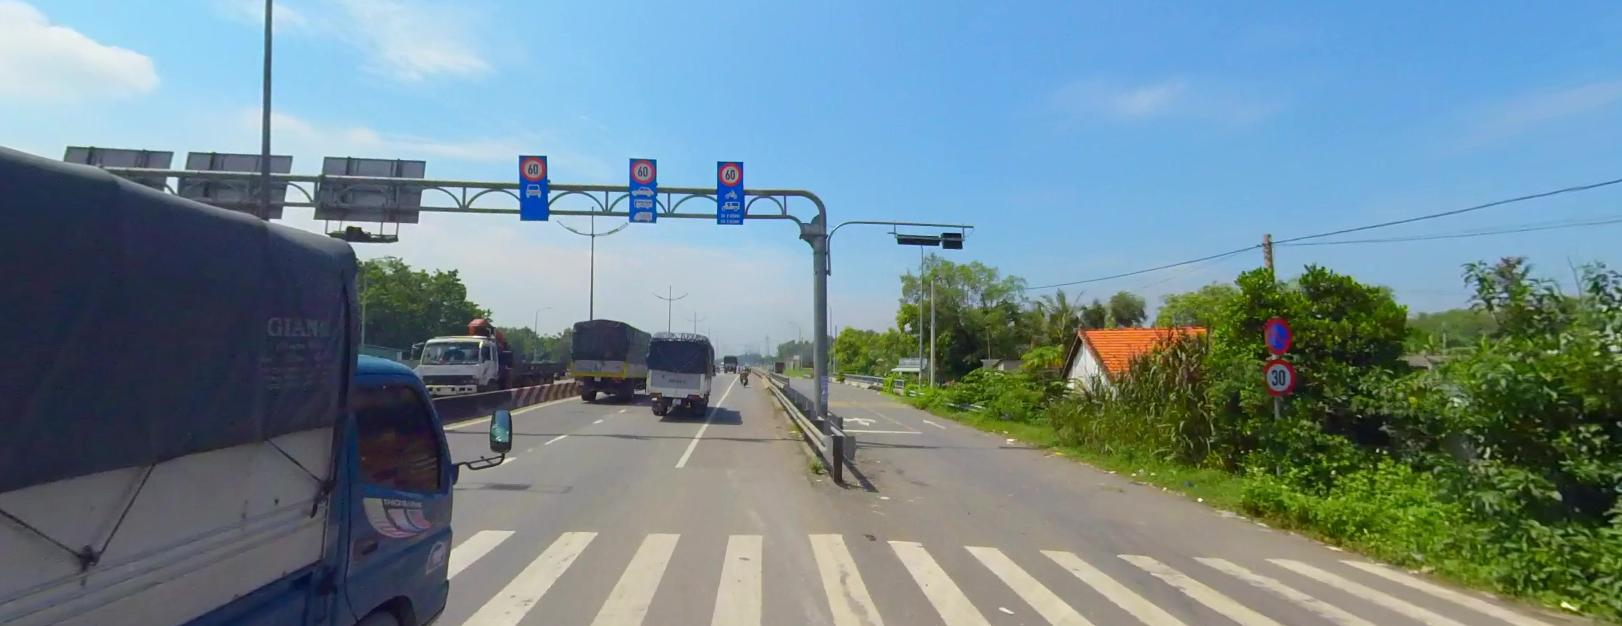Cam dung va do: (1264, 317, 1291, 353)
Gioi han toc do: (1262, 356, 1296, 392), (630, 157, 655, 182), (519, 155, 545, 179), (718, 161, 742, 183)
